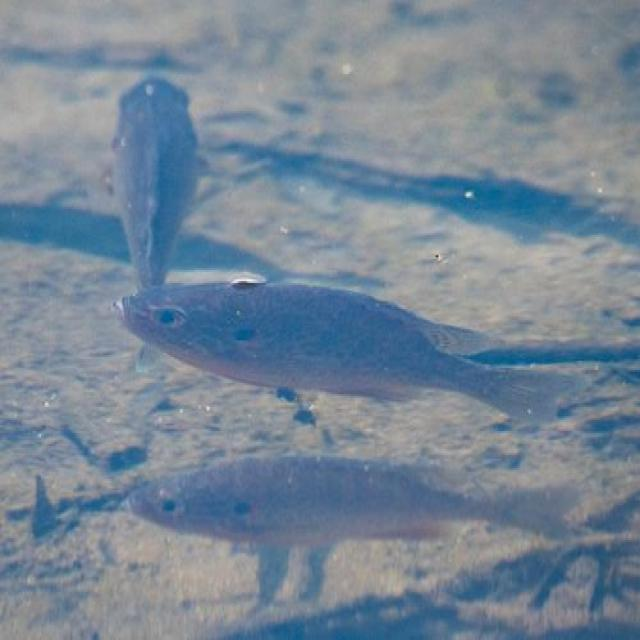Gunes Levregi: (111, 274, 595, 445)
